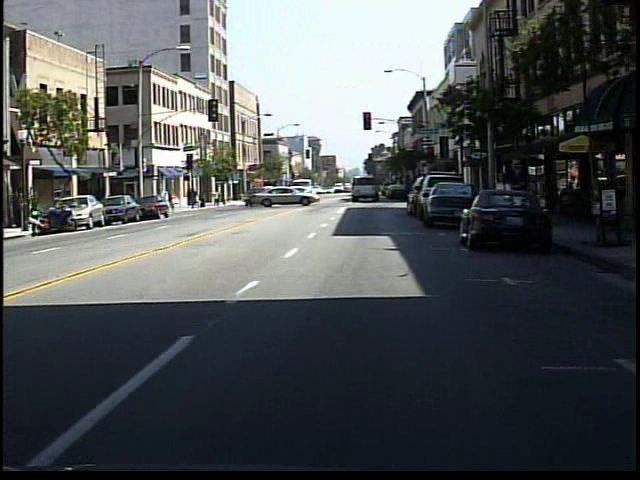person: (511, 155, 537, 238), (498, 167, 517, 231)
